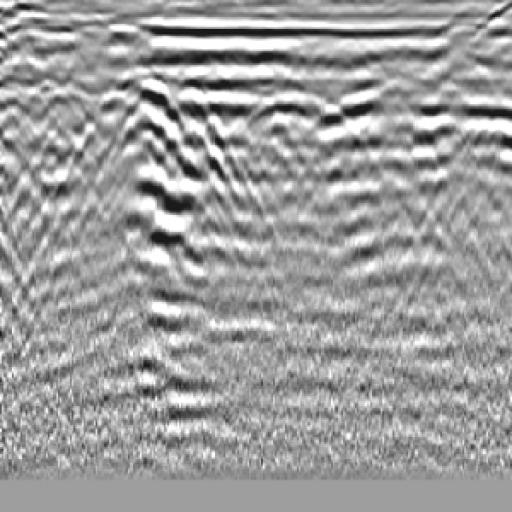metalic: (140, 64, 251, 173)
